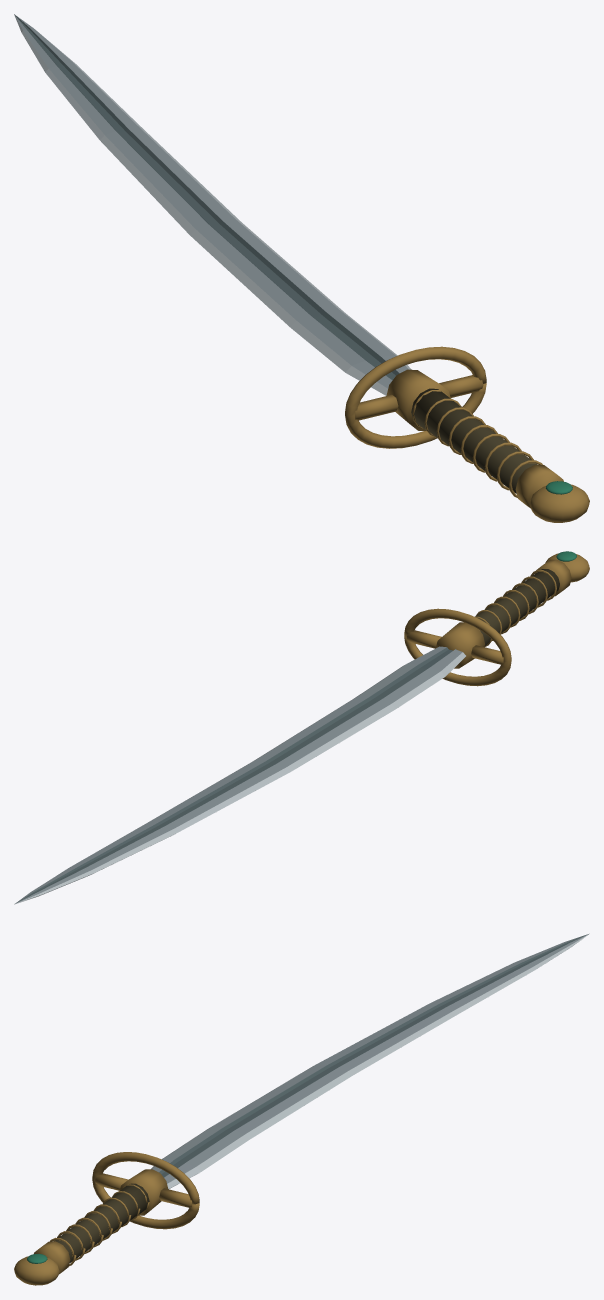
Rendered from frontier.glb.
3 renders of one model, top to bottom at view 1: azimuth 30°, elevation 25°; view 2: azimuth 150°, elevation 25°; view 3: azimuth 330°, elevation 25°, orthographic. The views are drawn at different scales.
Parts seen in each view (by area): view 1: MV_frontier; view 2: MV_frontier; view 3: MV_frontier.
Part boxes in pixels (<box>): MV_frontier: <box>14,14,589,522</box>; MV_frontier: <box>14,551,589,904</box>; MV_frontier: <box>14,933,589,1285</box>.
Size of the model in its own units: 0.1953 by 0.11 by 1.35.
